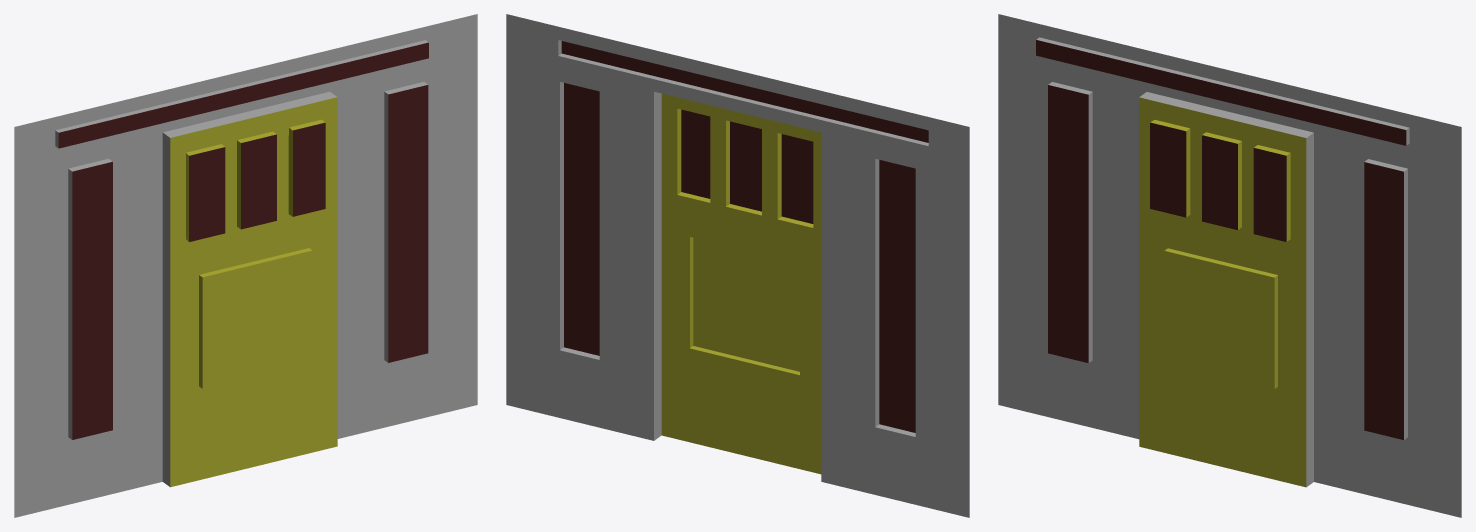
The model's file is ExteriorDoor.fbx.
3 views of the same model, side by side, from view 1: azimuth 30°, elevation 25°; view 2: azimuth 150°, elevation 25°; view 3: azimuth 330°, elevation 25° (orthographic).
Visible parts, largest first — view 1: pCube44; view 2: pCube44; view 3: pCube44.
Boxes of the visible parts, left/top/right/bottom form: pCube44: left=14, top=14, right=477, bottom=517; pCube44: left=506, top=14, right=969, bottom=517; pCube44: left=998, top=14, right=1461, bottom=517.
Bounding box in the file's own units: 4 × 3.23 × 0.1727.
